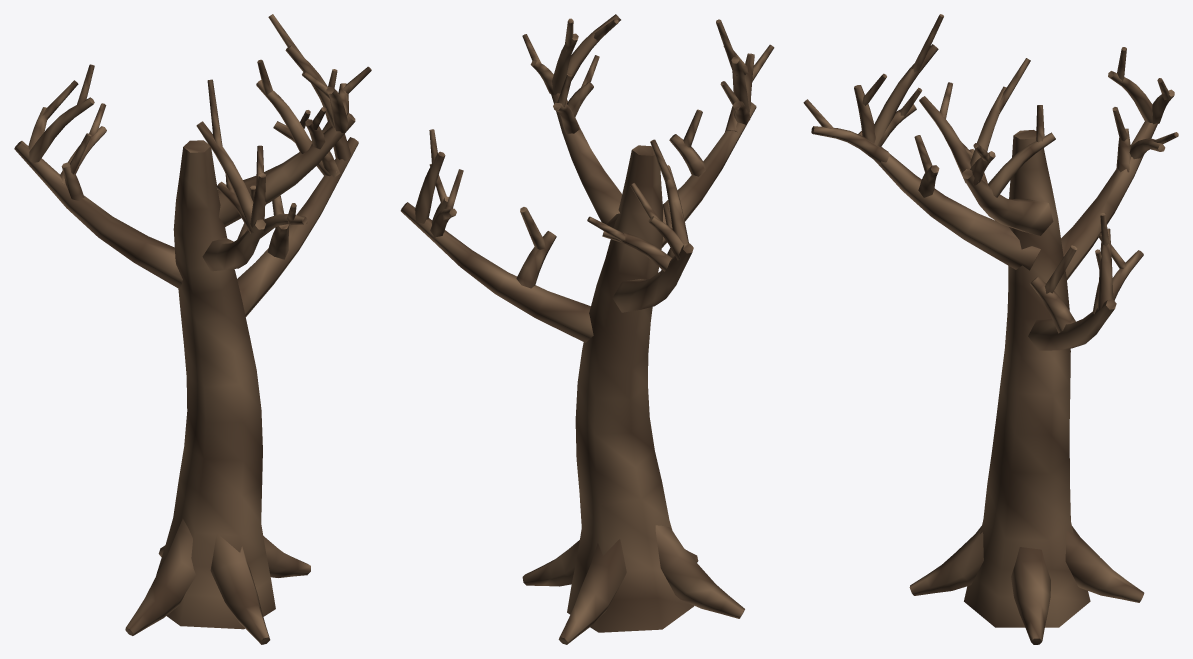
The model's file is SM_StylizedBareTree.fbx.
The picture shows the model from 3 angles, left to right: view 1: azimuth 30°, elevation 25°; view 2: azimuth 150°, elevation 25°; view 3: azimuth 270°, elevation 25°; orthographic projection.
Visible parts, largest first — view 1: SM_StylizedBareTree; view 2: SM_StylizedBareTree; view 3: SM_StylizedBareTree.
Boxes of the visible parts, <box> form: SM_StylizedBareTree: <box>14,14,371,644</box>; SM_StylizedBareTree: <box>400,14,774,644</box>; SM_StylizedBareTree: <box>803,14,1178,644</box>.
Size of what is drawn, in the model's own units: 3.16 by 5.51 by 3.26.
